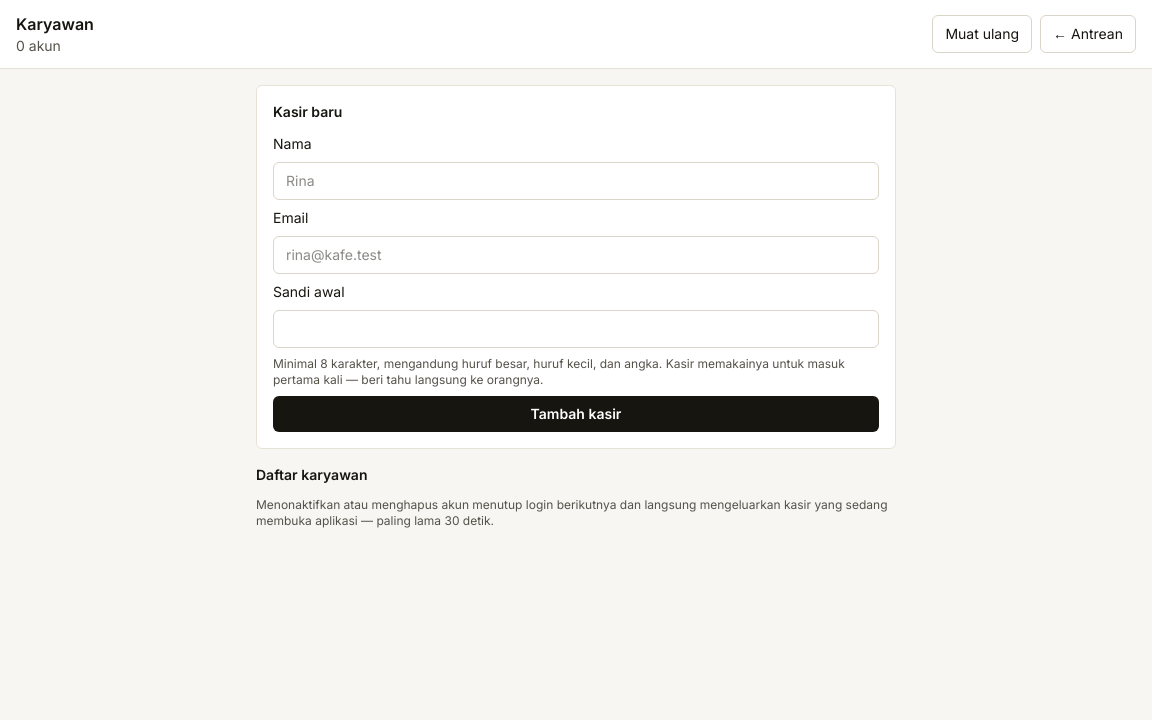
Test case: menambah kasir › isian kosong ditolak tanpa menghubungi server
Click the button "Tambah kasir".
click(576, 414)  # box [273, 396, 879, 432]
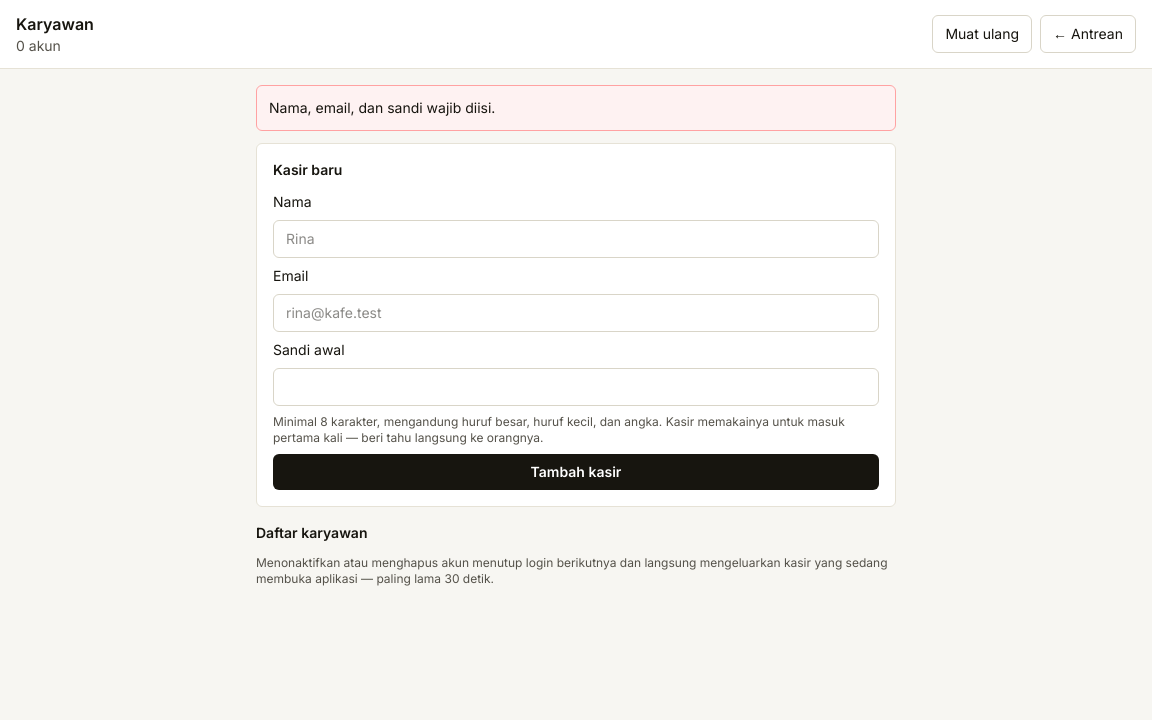
Expected: the message "Nama, email, dan sandi wajib diisi." is shown, [256, 85, 896, 131]
